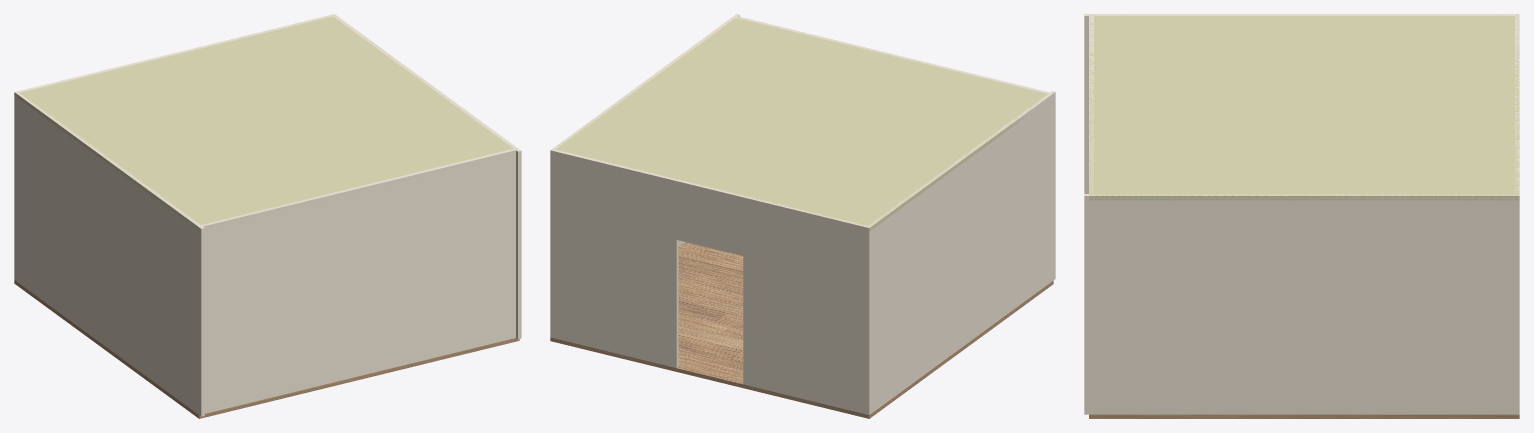
The model's file is office_walls.glb.
3 renders of one model, left to right at view 1: azimuth 30°, elevation 25°; view 2: azimuth 150°, elevation 25°; view 3: azimuth 270°, elevation 25°, orthographic. The views are drawn at different scales.
Visible parts, largest first — view 1: Cube.003, Cube.005, Cube.004, Cube, Cube.001, Cube.002; view 2: Cube.005, Cube.002, Cube.004, Cube, Cube.003, Cube.001; view 3: Cube.001, Cube.005, Cube, Cube.002, Cube.004, Cube.003.
Boxes of the visible parts, x1=… form: Cube.003: x1=197, y1=148, x2=518, y2=414; Cube.005: x1=14, y1=14, x2=513, y2=230; Cube.004: x1=16, y1=93, x2=204, y2=416; Cube: x1=14, y1=280, x2=519, y2=418; Cube.001: x1=333, y1=15, x2=521, y2=339; Cube.002: x1=14, y1=14, x2=336, y2=280; Cube.005: x1=550, y1=18, x2=1049, y2=231; Cube.002: x1=550, y1=149, x2=871, y2=415; Cube.004: x1=868, y1=91, x2=1055, y2=413; Cube: x1=550, y1=242, x2=1053, y2=418; Cube.003: x1=733, y1=15, x2=1052, y2=261; Cube.001: x1=552, y1=14, x2=739, y2=246; Cube.001: x1=1084, y1=194, x2=1514, y2=414; Cube.005: x1=1089, y1=14, x2=1519, y2=200; Cube: x1=1089, y1=414, x2=1519, y2=418; Cube.002: x1=1515, y1=14, x2=1519, y2=414; Cube.004: x1=1084, y1=14, x2=1514, y2=193; Cube.003: x1=1089, y1=14, x2=1093, y2=412.
Bounding box in the file's own units: 21.63 × 12.36 × 21.87.
Materials: 3 (1 with a texture image).
